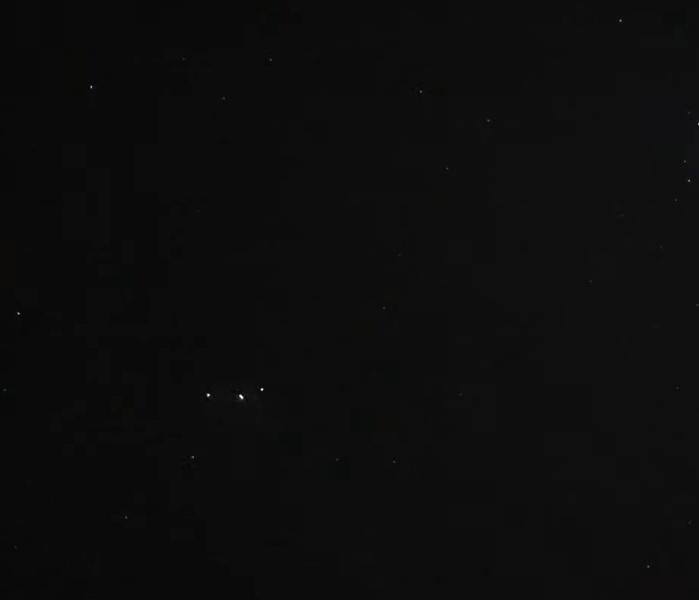Plane: (183, 377, 285, 411)
